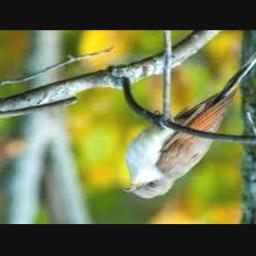Cuckoo: (124, 42, 256, 198)
